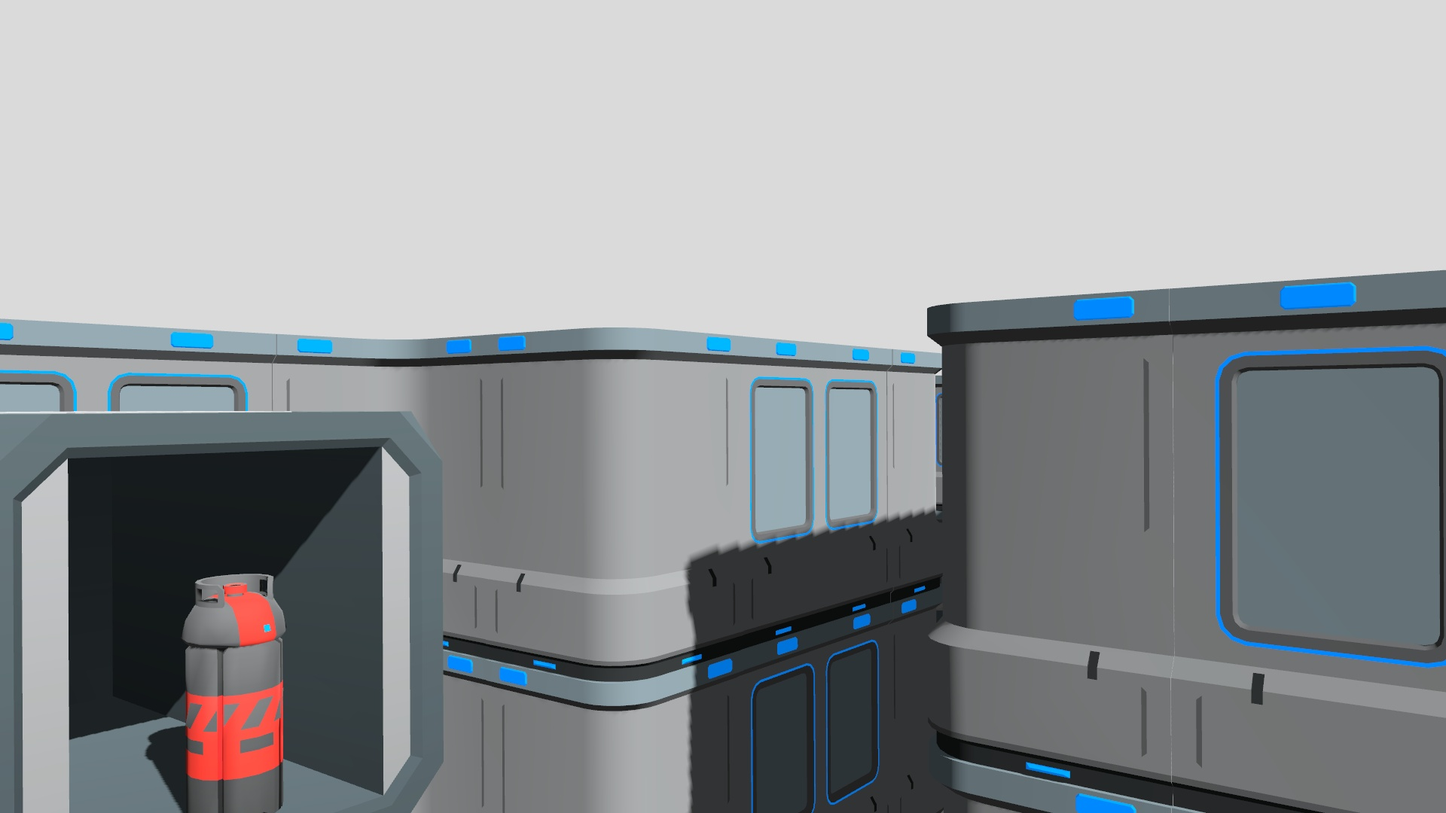red_barrel: (178, 571, 292, 810)
